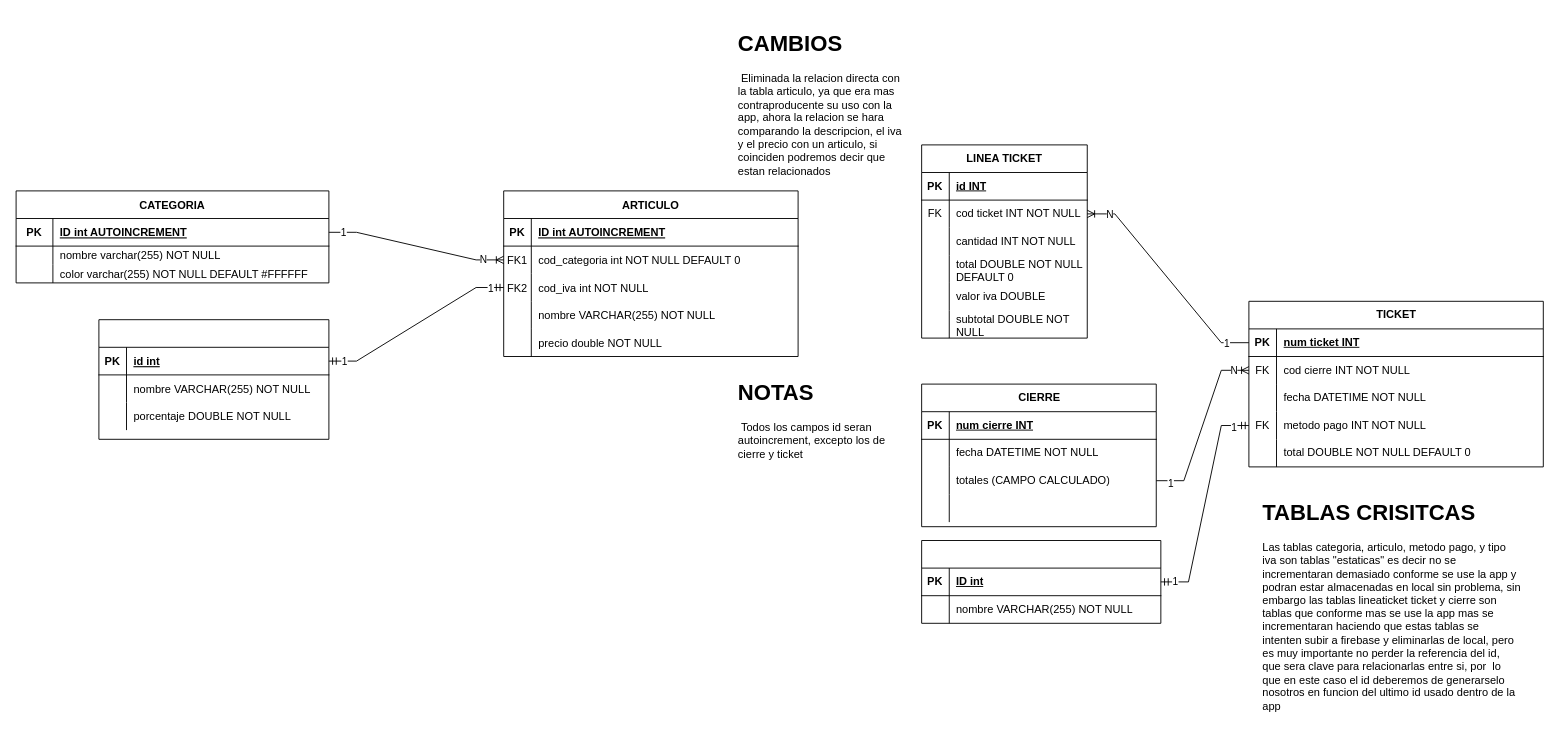
This 1559x740 diagram has some shape labels left out. The box of each missing label's shape, as (x1, y1, x2, y2) in pixels:
IVA: (98, 319, 329, 439)
METODO PAGO: (921, 540, 1161, 623)
